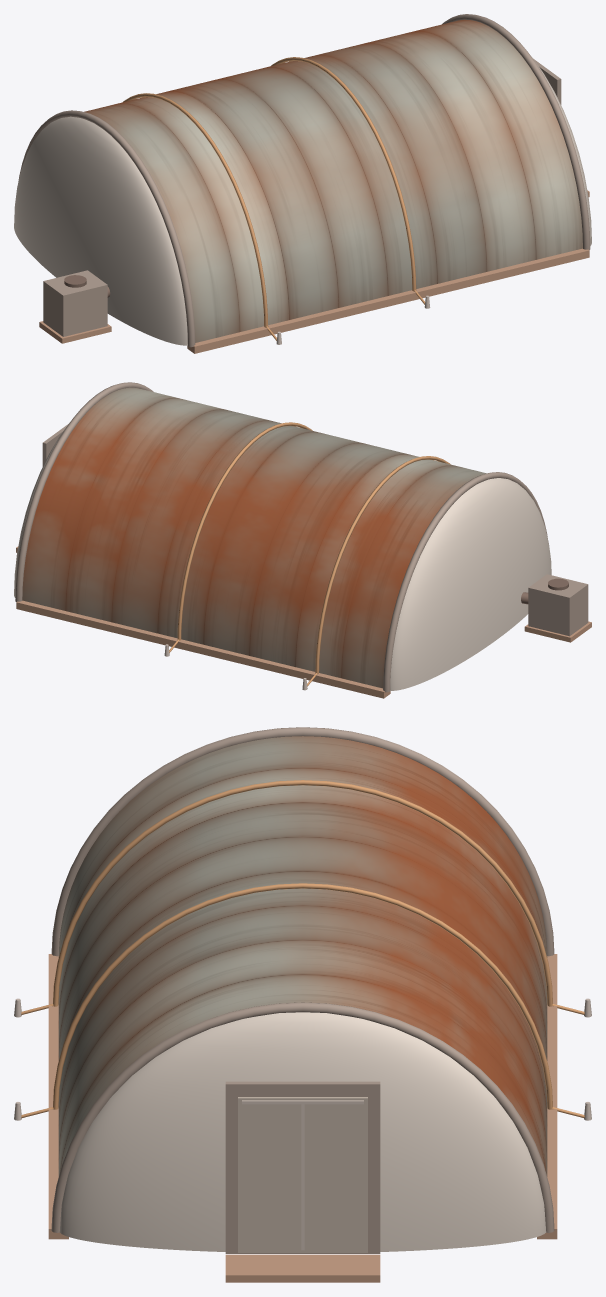
The model's file is I03_storage_tent_8m.glb.
3 renders of one model, top to bottom at view 1: azimuth 30°, elevation 25°; view 2: azimuth 150°, elevation 25°; view 3: azimuth 270°, elevation 25°, orthographic. The views are drawn at different scales.
Parts seen in each view (by area): view 1: membrane, end_bulge (×2), end_arch (×2), ground_beam, inflation_blower, anchor_strap (×2), I03_storage_tent_8m; view 2: membrane, end_bulge (×2), end_arch (×2), ground_beam, inflation_blower, anchor_strap (×2), I03_storage_tent_8m; view 3: membrane, end_bulge, zip_door, end_arch (×2), anchor_strap (×2), door_frame, ground_beam (×2), door_mat.
Part boxes in pixels (x1,y1,x2,y2): membrane: [84, 19, 582, 342]; end_bulge (×2): [14, 57, 591, 345]; end_arch (×2): [18, 14, 590, 347]; ground_beam: [187, 248, 589, 353]; inflation_blower: [43, 270, 107, 336]; anchor_strap (×2): [123, 57, 416, 327]; I03_storage_tent_8m: [39, 321, 111, 343]; membrane: [22, 387, 486, 688]; end_bulge (×2): [14, 423, 551, 690]; end_arch (×2): [15, 382, 547, 692]; ground_beam: [16, 600, 390, 698]; inflation_blower: [528, 574, 588, 636]; anchor_strap (×2): [177, 422, 450, 674]; I03_storage_tent_8m: [524, 621, 591, 642]; membrane: [58, 736, 547, 1176]; end_bulge: [59, 1012, 546, 1251]; zip_door: [238, 1097, 367, 1252]; end_arch (×2): [51, 727, 554, 1232]; anchor_strap (×2): [53, 780, 552, 1109]; door_frame: [225, 1081, 380, 1253]; ground_beam (×2): [48, 954, 557, 1239]; door_mat: [225, 1254, 380, 1282].
Size of the model in its own units: 11.06 by 3.21 by 7.1.
Materials: 8 (1 with a texture image).
